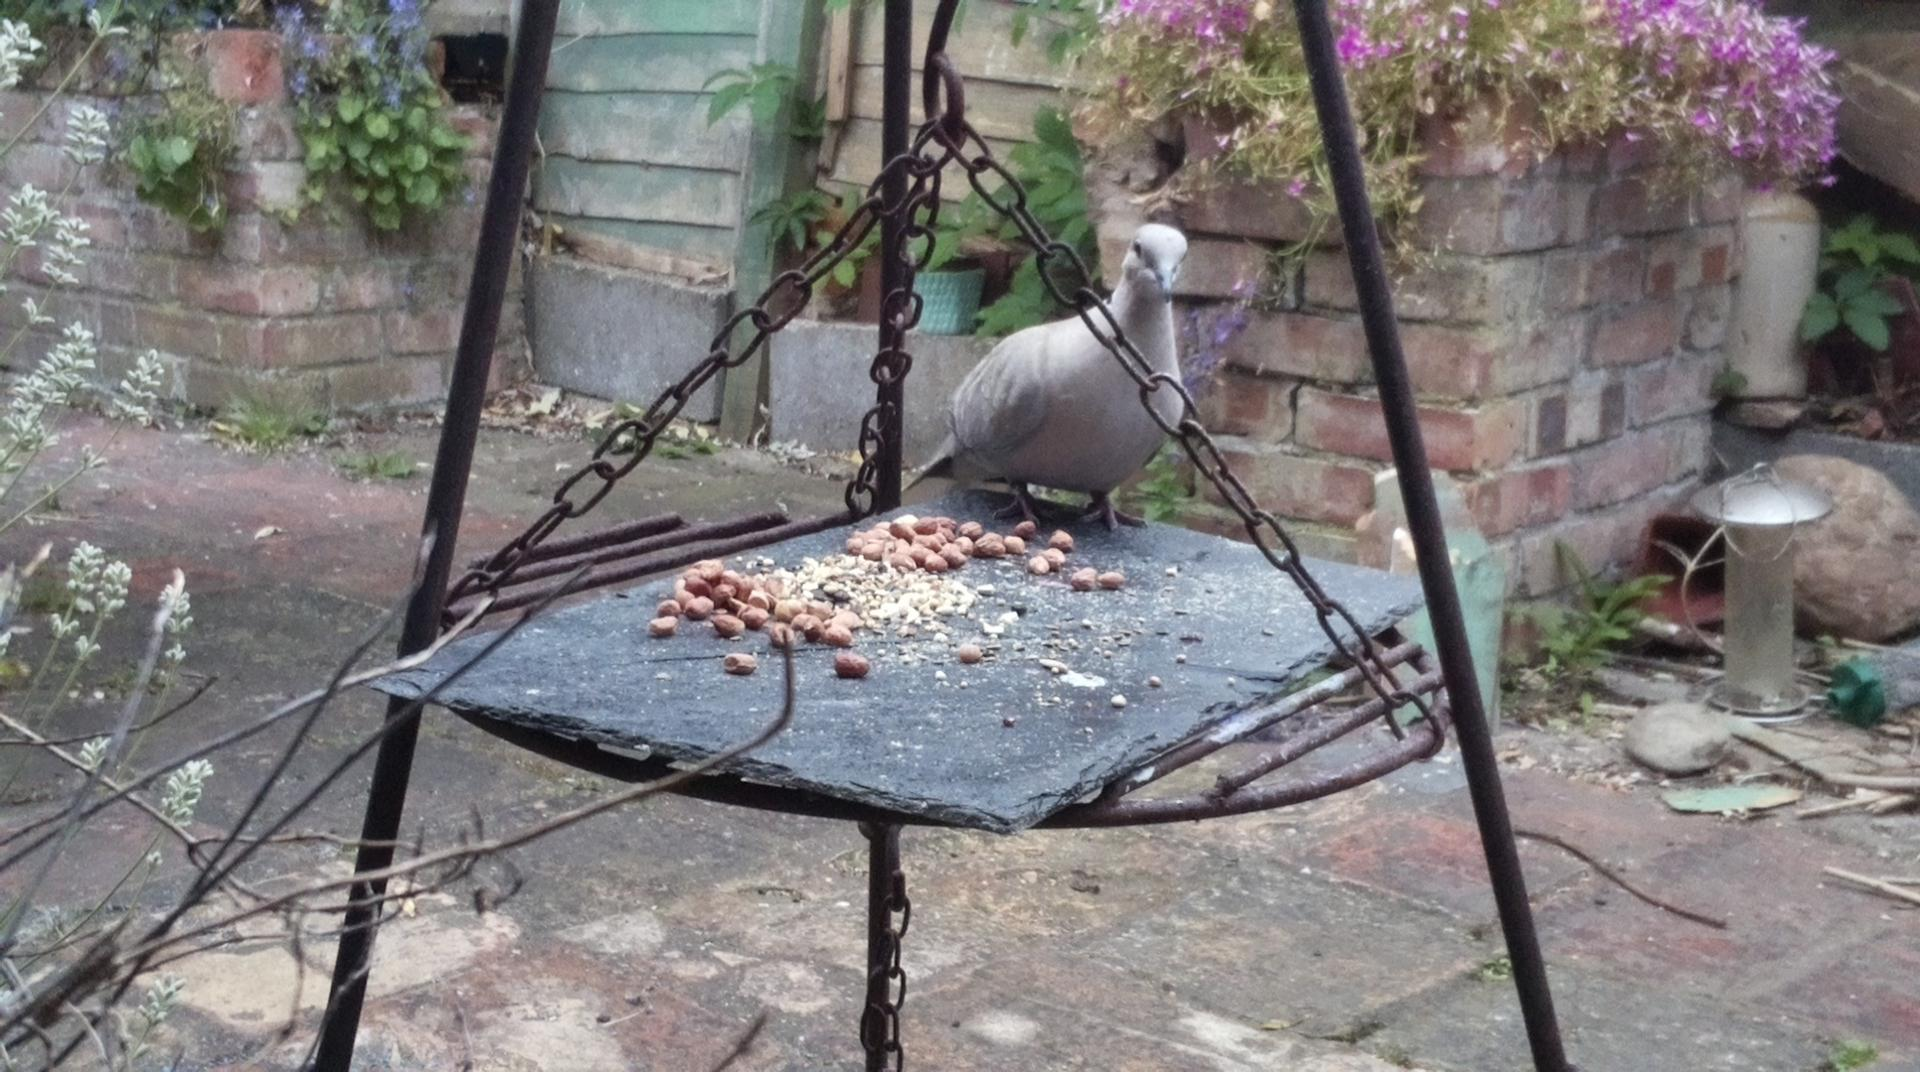collared dove: (902, 222, 1188, 531)
